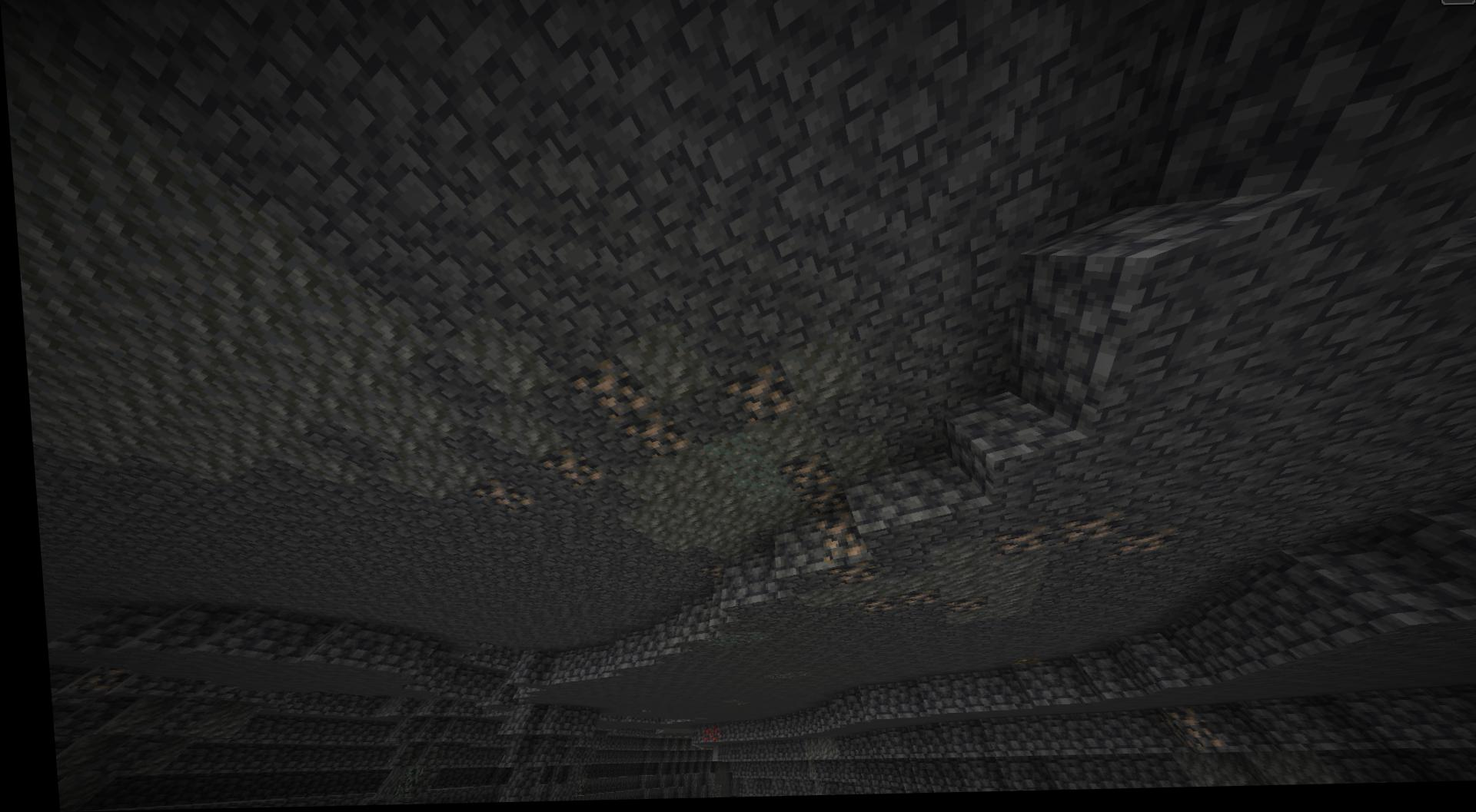iron ore: (718, 363, 790, 428), (560, 360, 635, 415), (615, 416, 681, 467), (807, 512, 864, 565), (465, 483, 524, 525), (53, 663, 117, 700), (531, 451, 590, 491), (1163, 708, 1207, 761), (1046, 513, 1109, 550), (983, 528, 1042, 564), (774, 459, 828, 491), (1108, 531, 1159, 564), (796, 487, 844, 520), (824, 564, 867, 590), (888, 593, 932, 615), (846, 598, 888, 619), (936, 596, 976, 618), (688, 561, 716, 586)
redstone ore: (684, 721, 714, 750)
